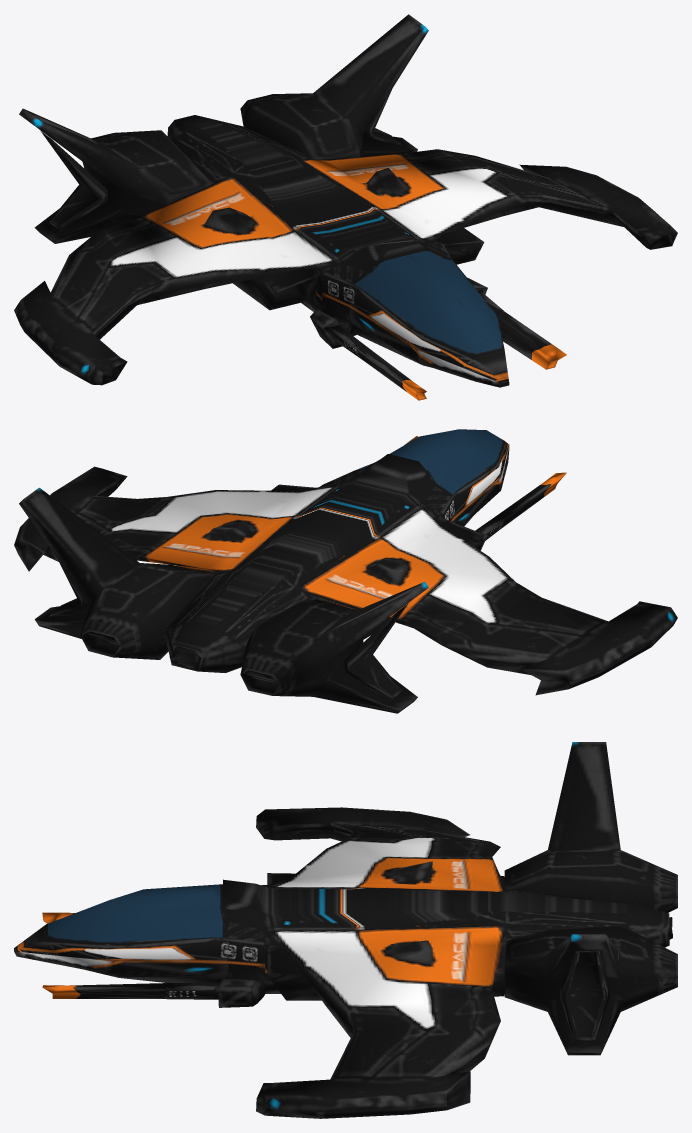
The model's file is hero2.glb.
The picture shows the model from 3 angles, top to bottom: view 1: azimuth 30°, elevation 25°; view 2: azimuth 150°, elevation 25°; view 3: azimuth 270°, elevation 25°; orthographic projection. The views are drawn at different scales.
Parts seen in each view (by area): view 1: Object_3; view 2: Object_3; view 3: Object_3.
Boxes of the visible parts, x1,y1,x2,y2 form: Object_3: (14, 14, 677, 400); Object_3: (14, 429, 677, 713); Object_3: (14, 742, 677, 1118).
Bounding box in the file's own units: 34.51 × 7.45 × 32.38.
1 material, 1 textured.
